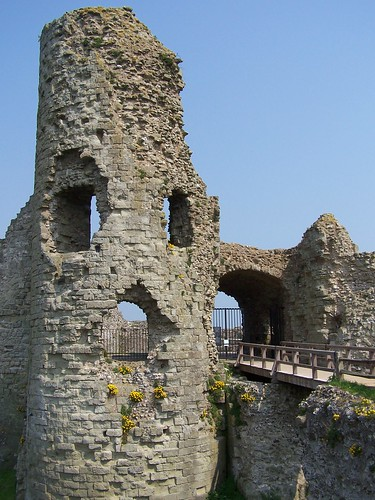bridge: (238, 338, 375, 429)
building: (1, 1, 375, 500)
sky: (182, 1, 375, 226)
